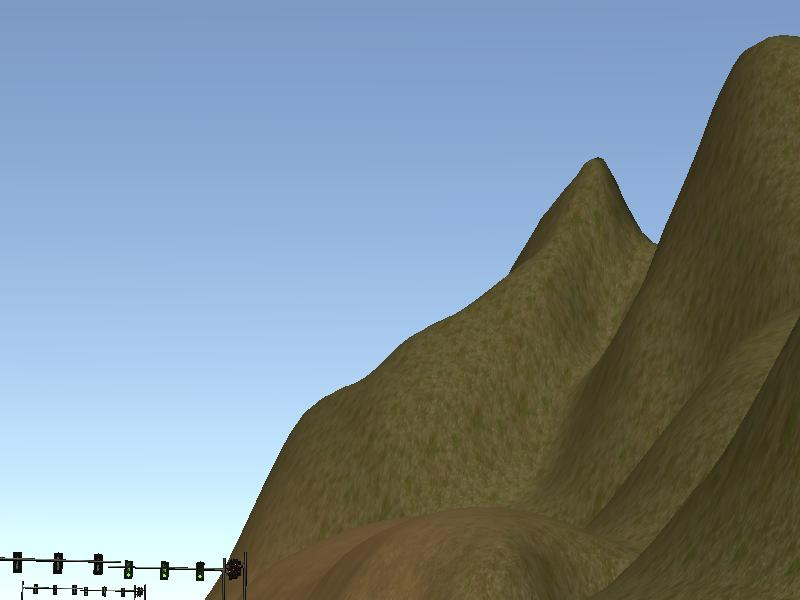Green: (124, 560, 132, 579), (160, 561, 167, 581), (196, 562, 202, 583)
